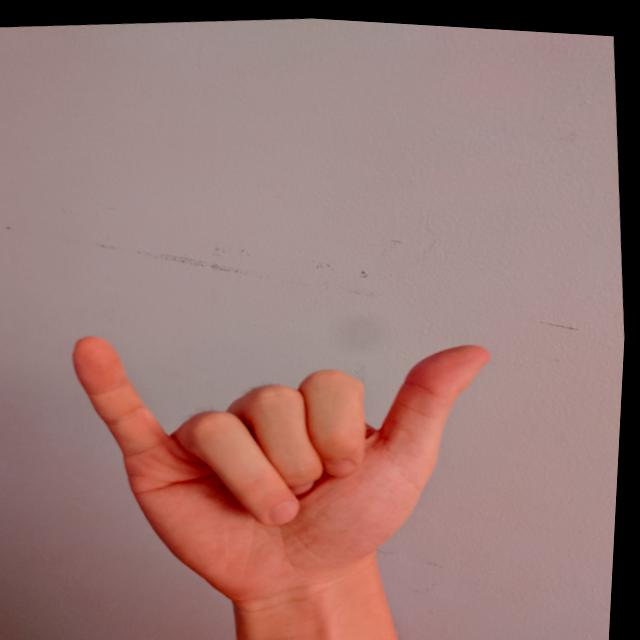Y: (55, 292, 523, 624)
